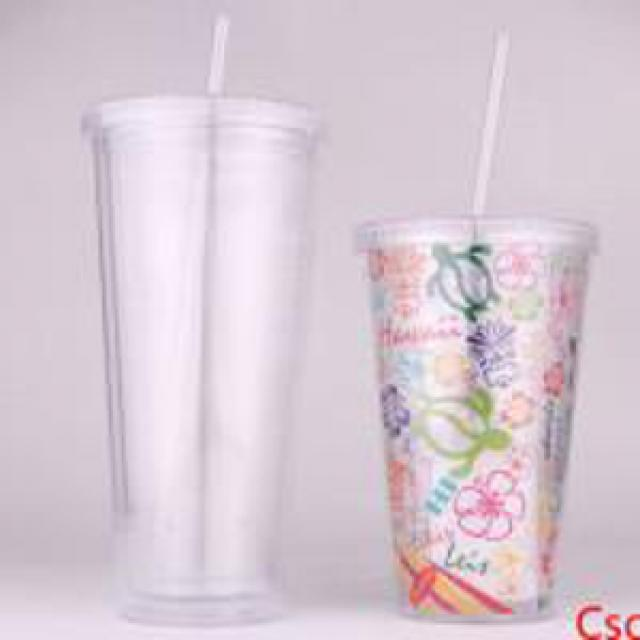plastic cup: (66, 51, 341, 625), (339, 179, 610, 623)
